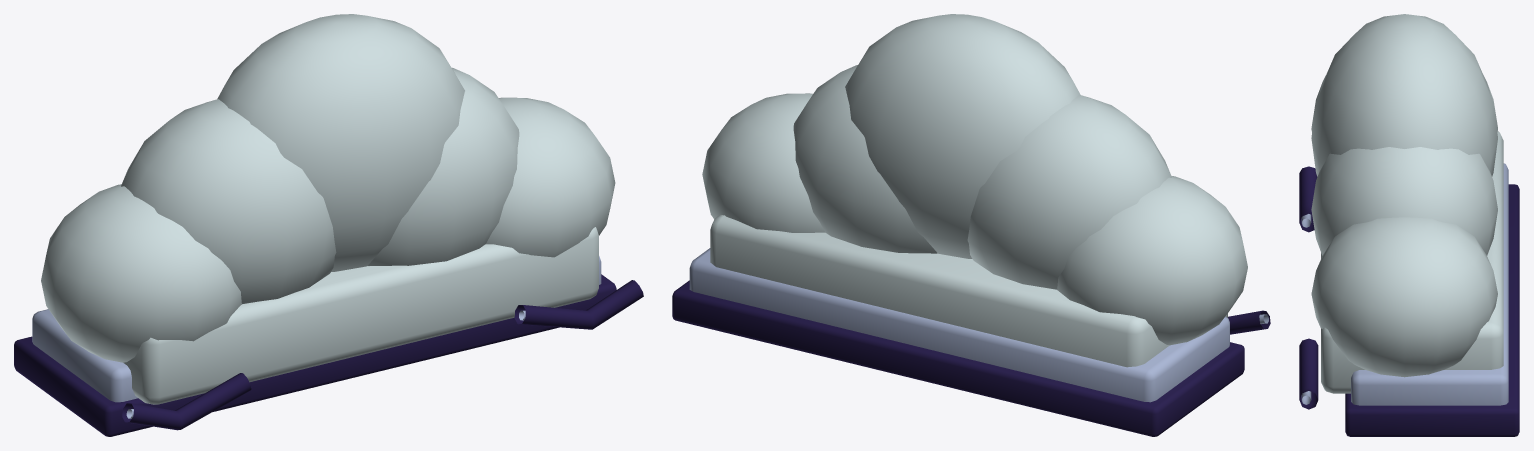
The model's file is r017_sky_lagoon_cloud_family_cloud_01.glb.
3 views of the same model, side by side, from view 1: azimuth 30°, elevation 25°; view 2: azimuth 150°, elevation 25°; view 3: azimuth 270°, elevation 25° (orthographic). The views are drawn at different scales.
Visible parts, largest first — view 1: r017_sky_lagoon_cloud_family_cloud_01.001; view 2: r017_sky_lagoon_cloud_family_cloud_01.001; view 3: r017_sky_lagoon_cloud_family_cloud_01.001.
Boxes of the visible parts, <box> form: r017_sky_lagoon_cloud_family_cloud_01.001: <box>14,14,643,436</box>; r017_sky_lagoon_cloud_family_cloud_01.001: <box>672,14,1270,436</box>; r017_sky_lagoon_cloud_family_cloud_01.001: <box>1299,14,1519,436</box>.
Bounding box in the file's own units: 4.6 × 2.64 × 1.75.
